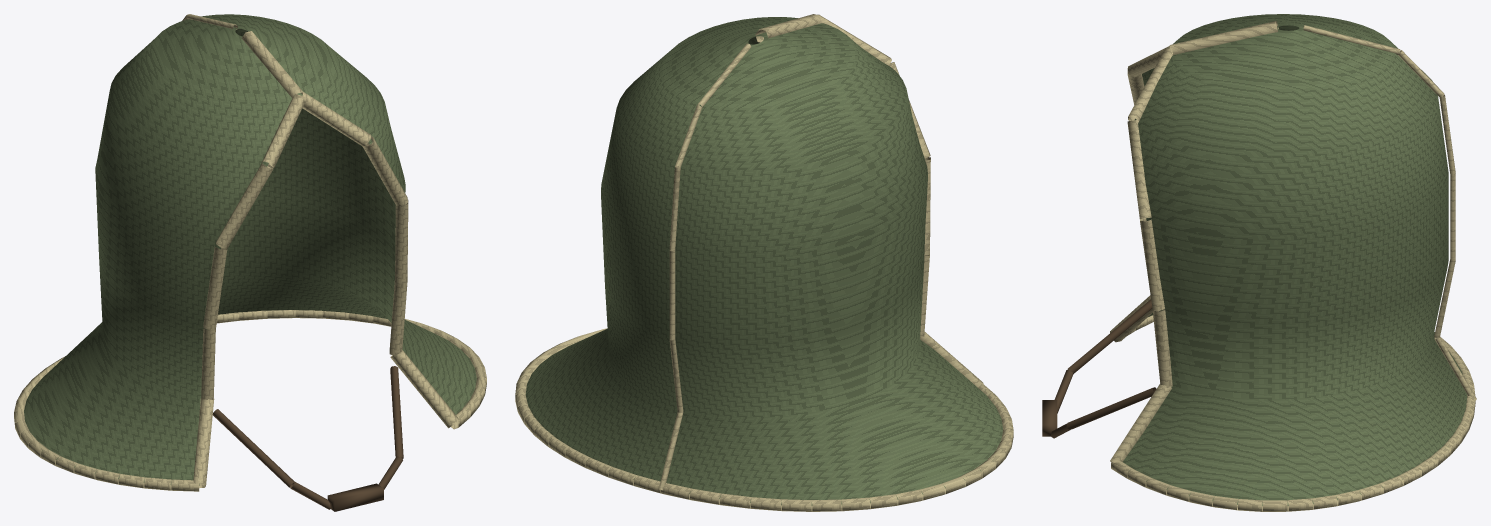
3 renders of one model, left to right at view 1: azimuth 30°, elevation 25°; view 2: azimuth 150°, elevation 25°; view 3: azimuth 270°, elevation 25°, orthographic. The views are drawn at different scales.
Visible parts, largest first — view 1: Woven_Hood; view 2: Woven_Hood; view 3: Woven_Hood.
Boxes of the visible parts, x1,y1,x2,y2 form: Woven_Hood: (14,14,486,511); Woven_Hood: (515,14,1013,511); Woven_Hood: (1042,14,1476,511).
Size of the model in its own units: 0.4798 by 0.4191 by 0.4073.
Materials: 3 (2 with a texture image).
